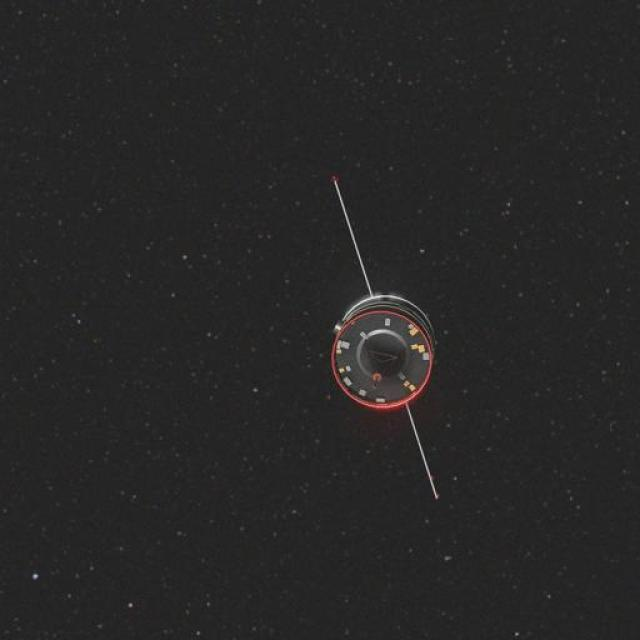double_start: (310, 277, 449, 441)
